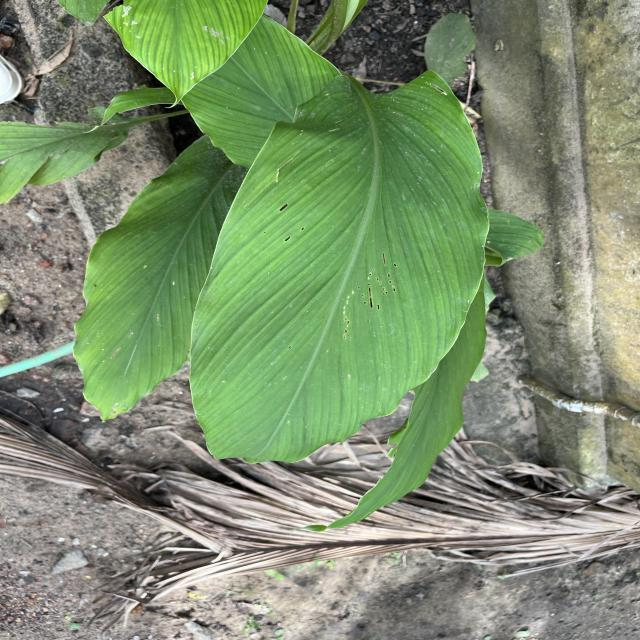Curcuma longa: (184, 68, 494, 470), (72, 132, 250, 428)
